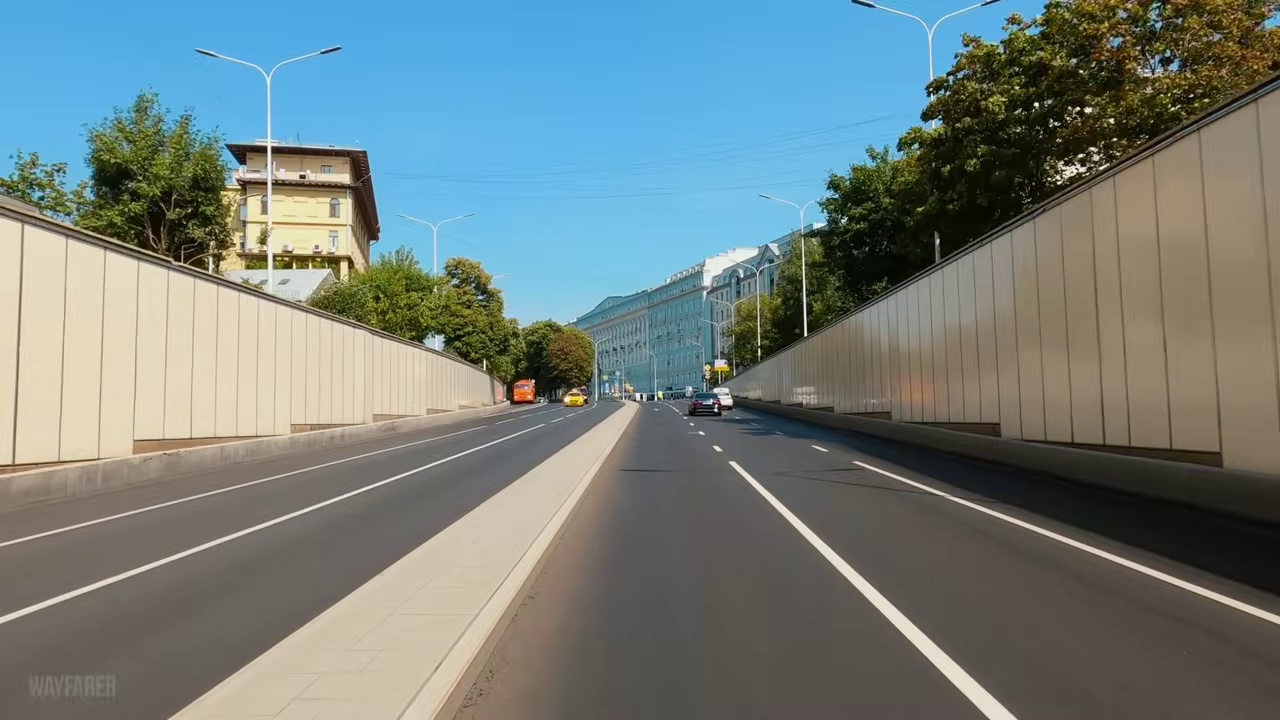apagada: (187, 39, 224, 60), (320, 44, 352, 57)
